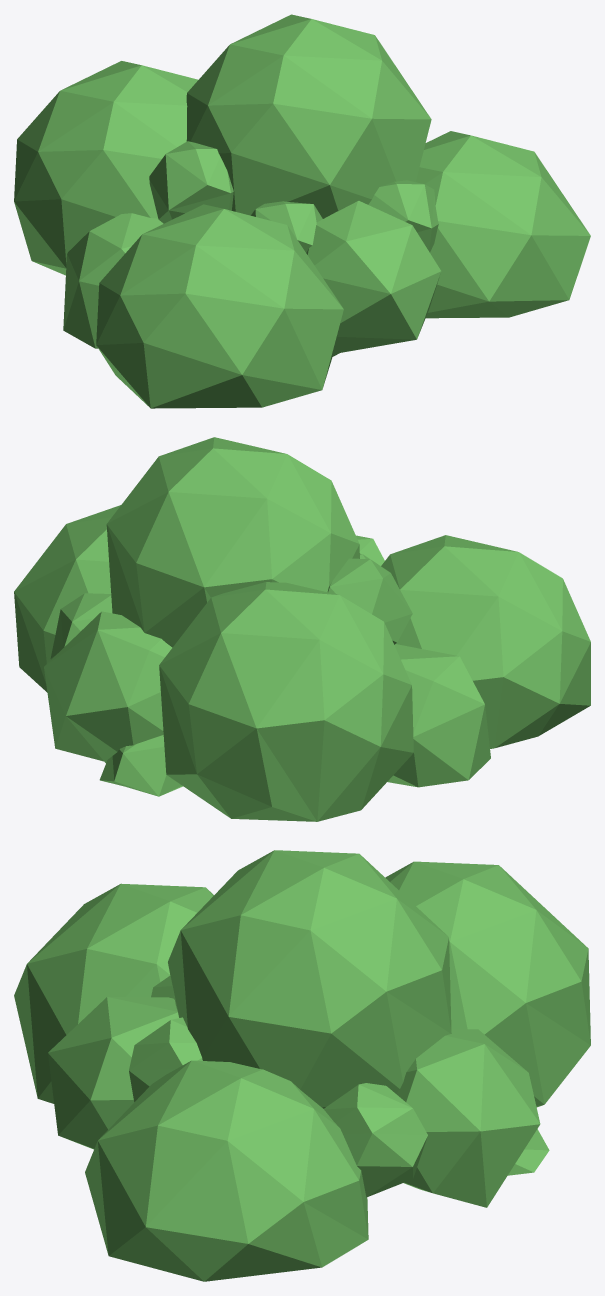
The model's file is bush3.fbx.
3 views of the same model, one above another, from view 1: azimuth 30°, elevation 25°; view 2: azimuth 150°, elevation 25°; view 3: azimuth 270°, elevation 25° (orthographic). The views are drawn at different scales.
Parts seen in each view (by area): view 1: bush 3; view 2: bush 3; view 3: bush 3.
Part boxes in pixels (left/top/right/bottom): bush 3: left=14, top=14, right=590, bottom=408; bush 3: left=14, top=437, right=590, bottom=821; bush 3: left=14, top=850, right=590, bottom=1281.
Bounding box in the file's own units: 327 × 161 × 285.
